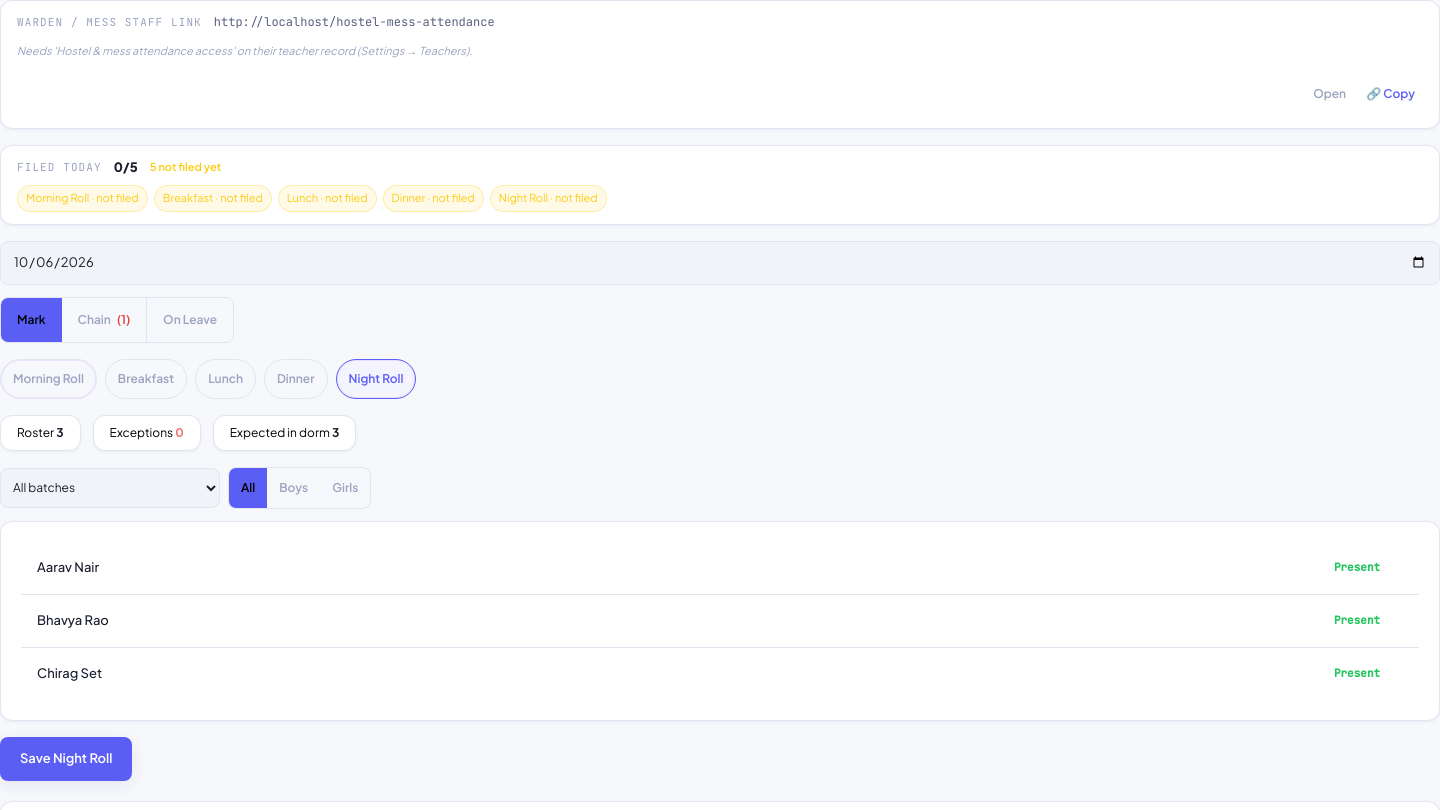
Test: HostelTab — days off › a class absence on a working day is an anomaly
Expected: the button "Aarav Nair" is shown, x1=37 y1=558 x2=99 y2=577
Click the button "Chain (1)".
click(104, 320)  # box x1=62 y1=298 x2=146 y2=342
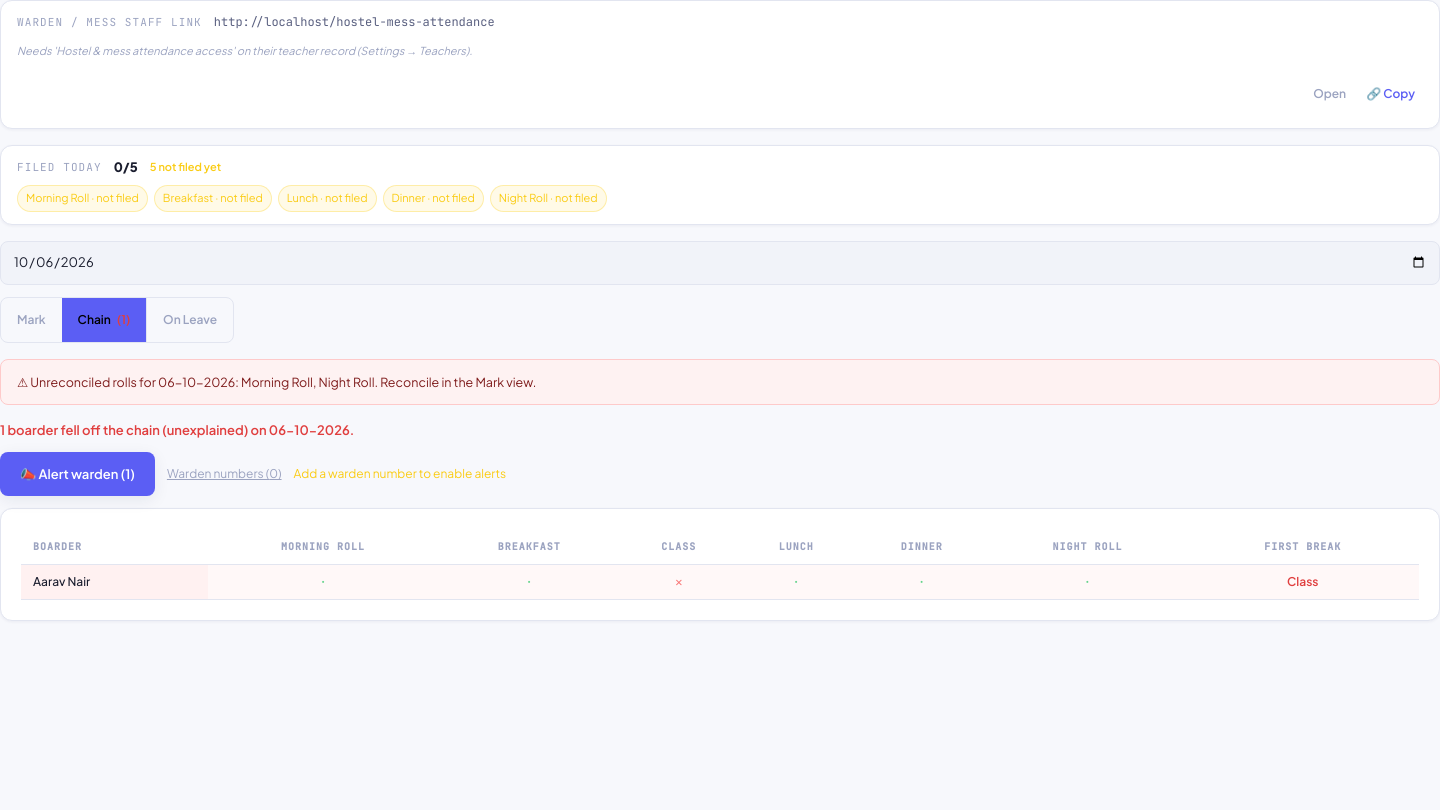
Expected: the button "📣 Alert warden (1)" is shown, x1=0 y1=452 x2=155 y2=496
